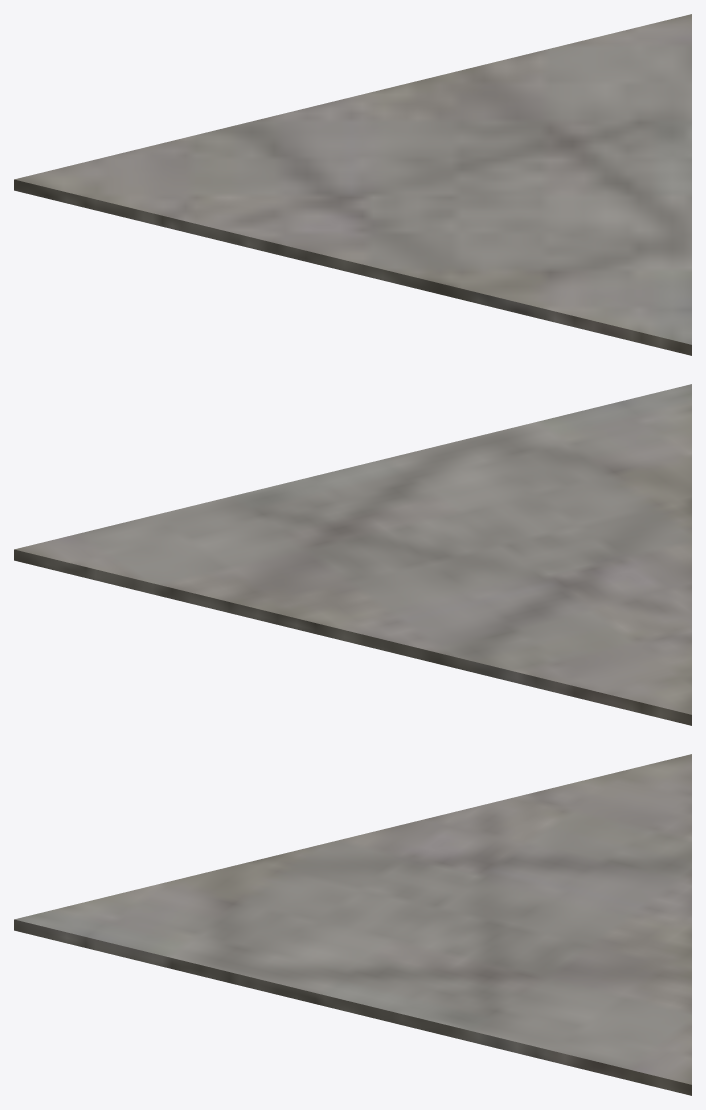
The model's file is stone_floor_triangle_textured.glb.
3 views of the same model, one above another, from view 1: azimuth 30°, elevation 25°; view 2: azimuth 150°, elevation 25°; view 3: azimuth 270°, elevation 25° (orthographic).
Parts seen in each view (by area): view 1: Circle; view 2: Circle; view 3: Circle.
Part boxes in pixels (bbox=[...]): Circle: bbox=[14, 14, 691, 355]; Circle: bbox=[14, 384, 691, 725]; Circle: bbox=[14, 754, 691, 1095].
Size of the model in its own units: 2 by 0.0312 by 1.73.
Materials: 1 (1 with a texture image).
